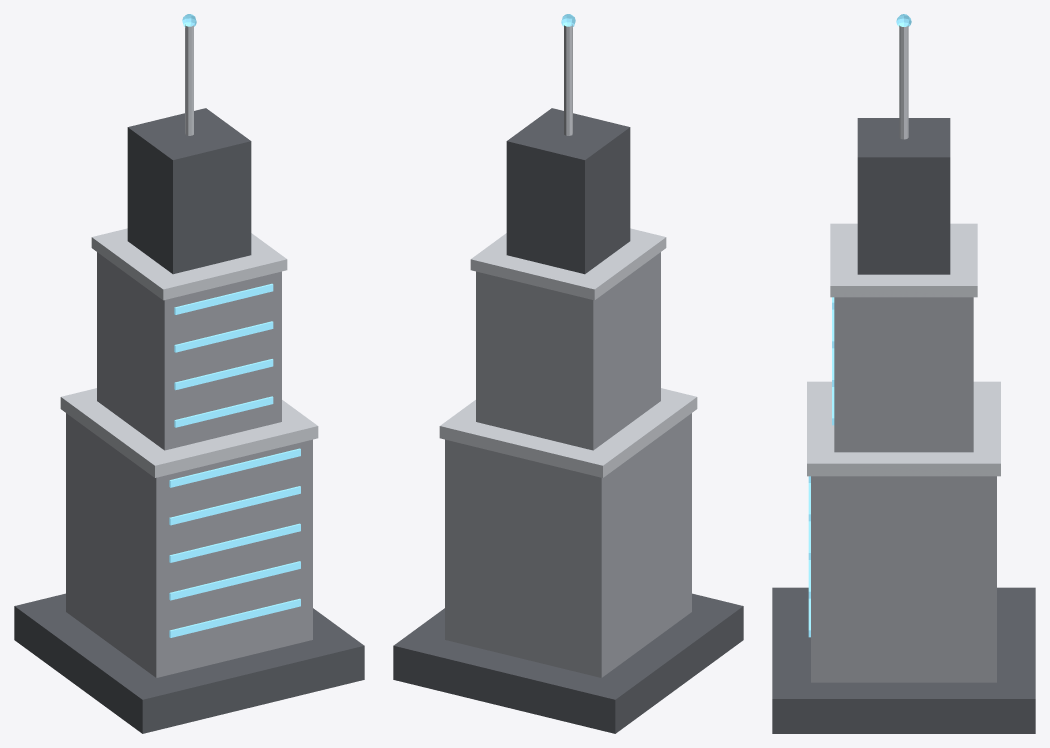
File: tower.glb
The picture shows the model from 3 angles, left to right: view 1: azimuth 30°, elevation 25°; view 2: azimuth 150°, elevation 25°; view 3: azimuth 270°, elevation 25°; orthographic projection. The views are drawn at different scales.
Visible parts, largest first — view 1: tower; view 2: tower; view 3: tower.
Part boxes in pixels (bbox=[...]): tower: bbox=[14, 14, 364, 733]; tower: bbox=[393, 14, 743, 733]; tower: bbox=[772, 14, 1035, 733].
Size of the model in its own units: 3.4 by 9.45 by 3.4.
